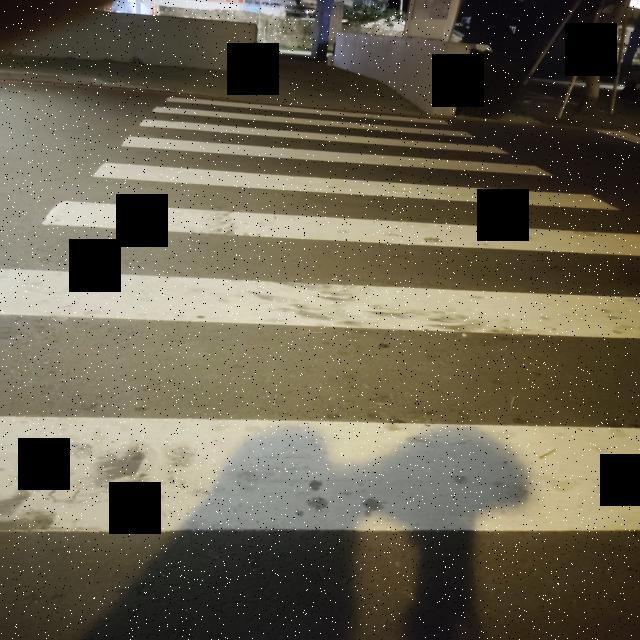zebra crossing: (2, 96, 635, 538)
